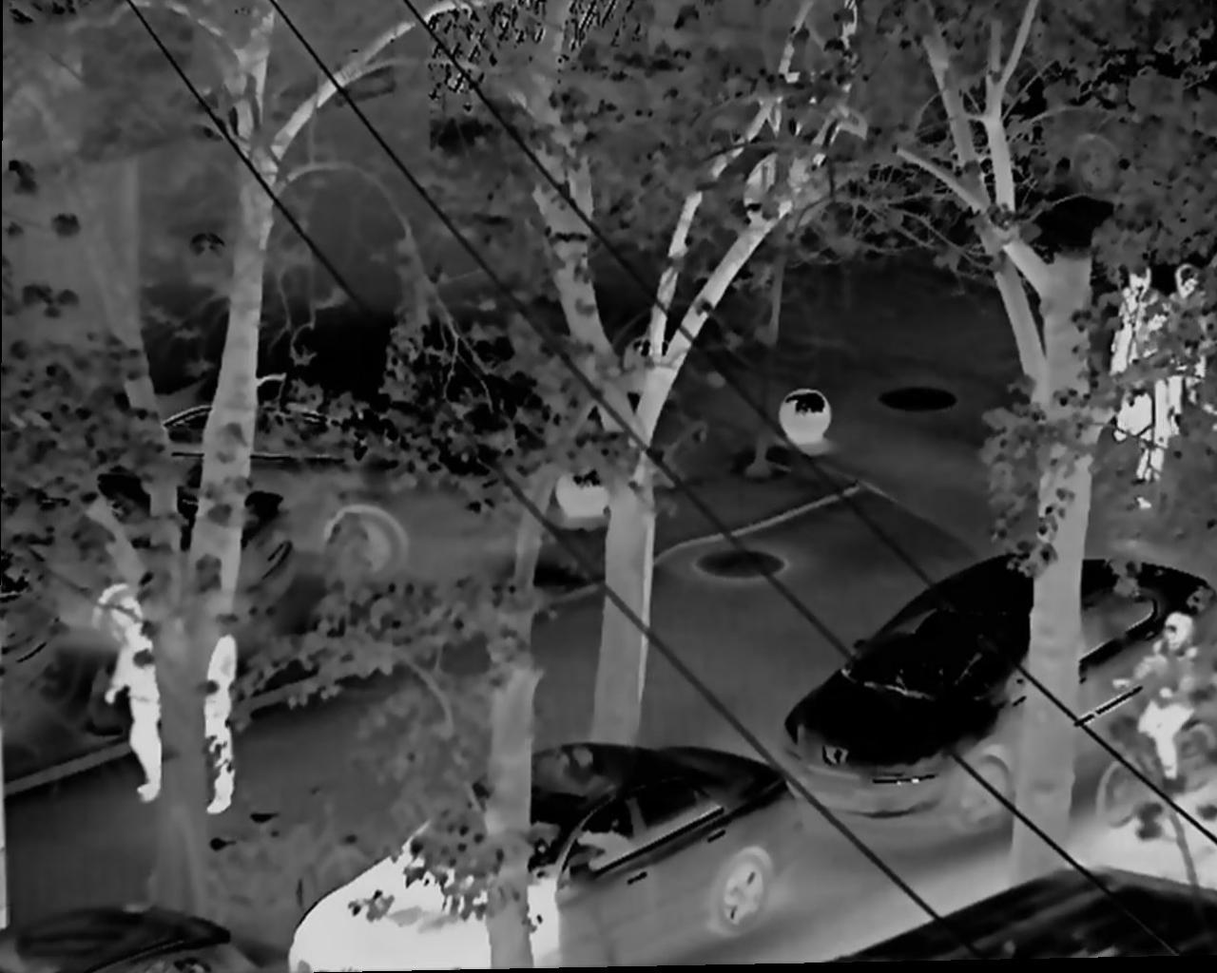person: (169, 618, 255, 813), (1124, 610, 1208, 808), (87, 606, 169, 801), (1157, 257, 1217, 471), (1112, 259, 1168, 465)
